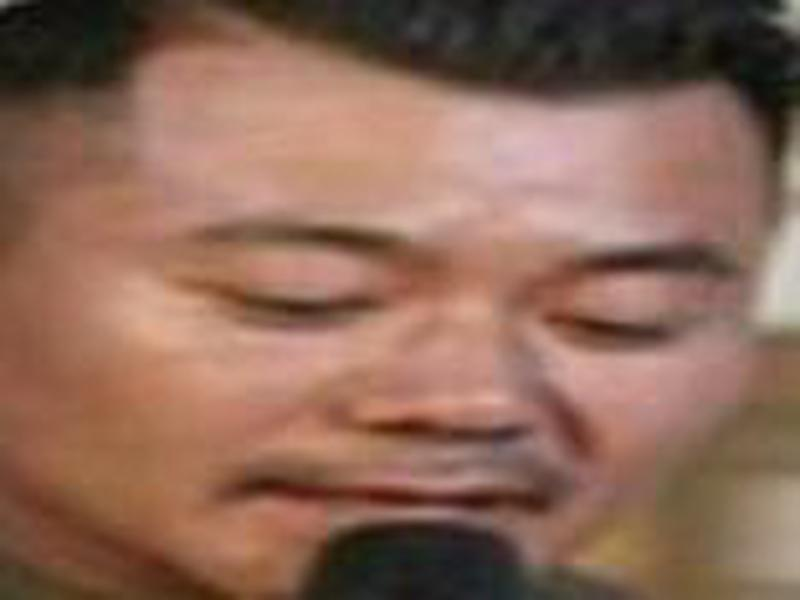without_mask: (51, 59, 766, 578)
